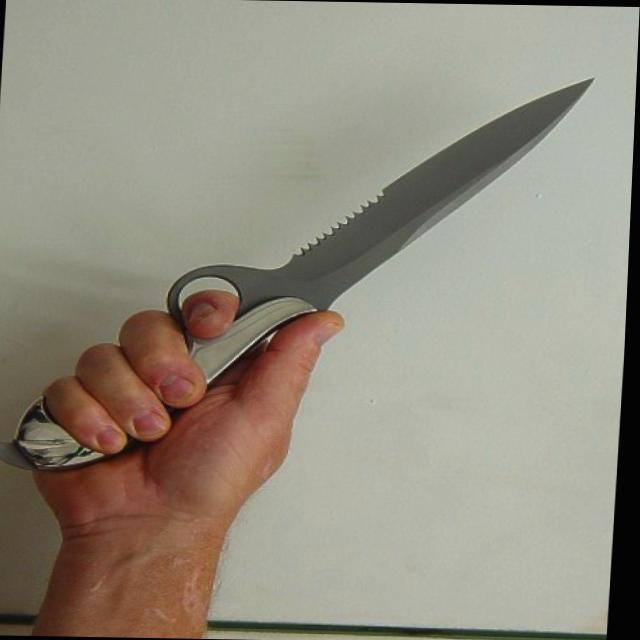knife: (191, 68, 601, 313)
